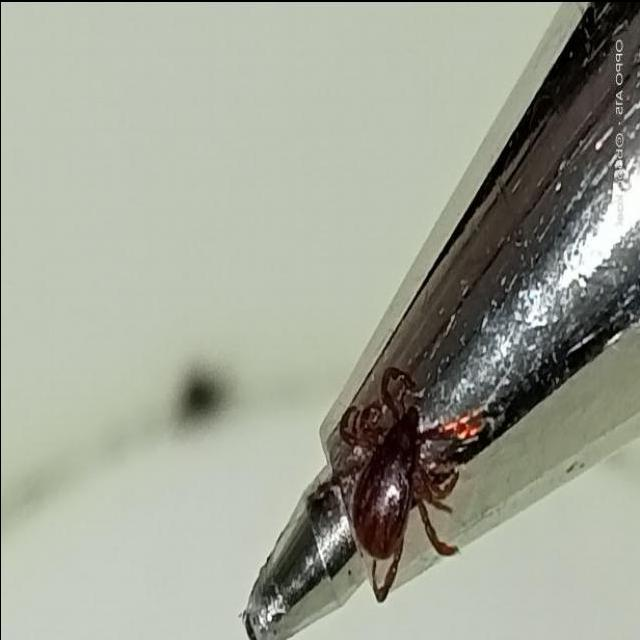Rhipicephalus Sanguineus-M: (338, 365, 492, 600)
